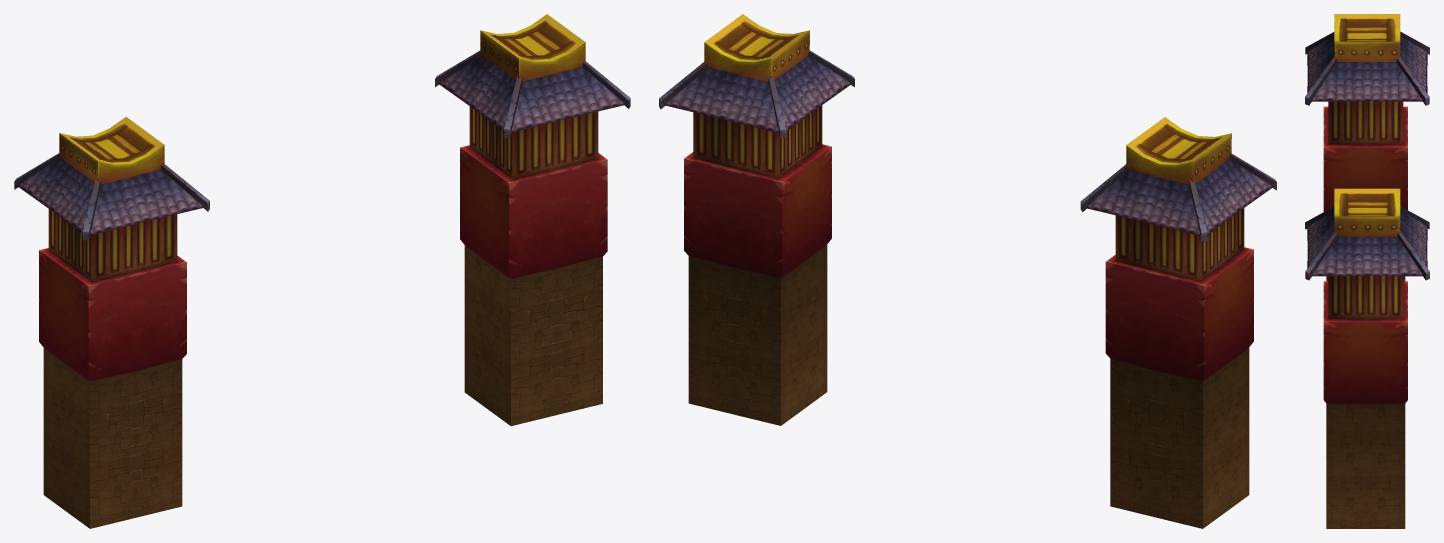
File: Stage_01_02_DaMen02.FBX
3 renders of one model, left to right at view 1: azimuth 30°, elevation 25°; view 2: azimuth 150°, elevation 25°; view 3: azimuth 270°, elevation 25°, orthographic. The views are drawn at different scales.
Visible parts, largest first — view 1: Stage_01_02_DaMen02; view 2: Stage_01_02_DaMen02; view 3: Stage_01_02_DaMen02.
Boxes of the visible parts, x1,y1,x2,y2 form: Stage_01_02_DaMen02: [14, 14, 630, 528]; Stage_01_02_DaMen02: [659, 14, 1276, 528]; Stage_01_02_DaMen02: [1305, 14, 1429, 528].
Bounding box in the file's own units: 2130 × 1342 × 494.
